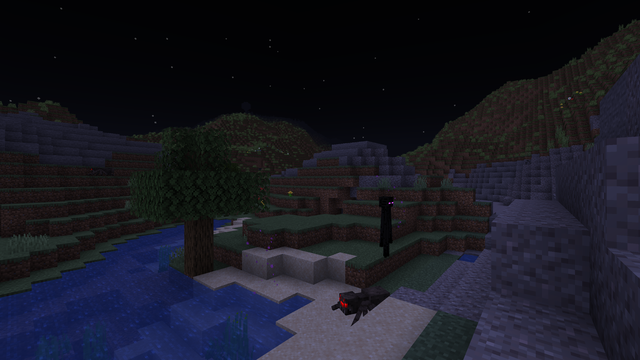araignees: (331, 279, 388, 326), (90, 166, 111, 175)
endermens: (377, 194, 394, 257)
